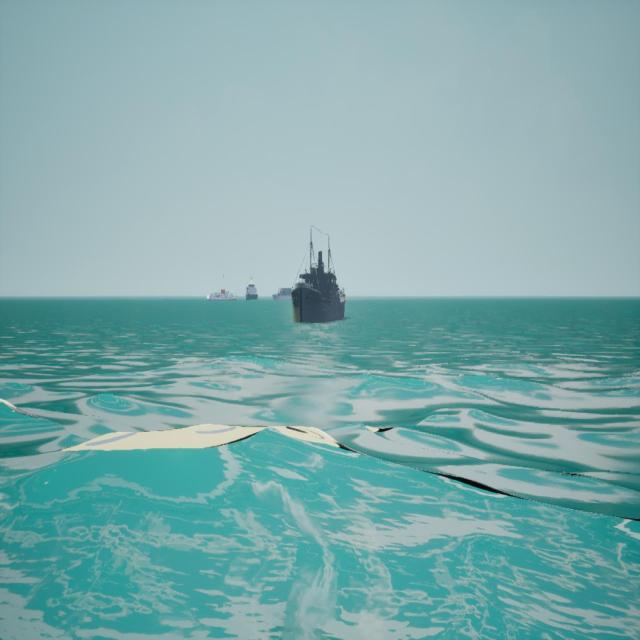fishing ship: (291, 229, 349, 324), (247, 279, 260, 301)
